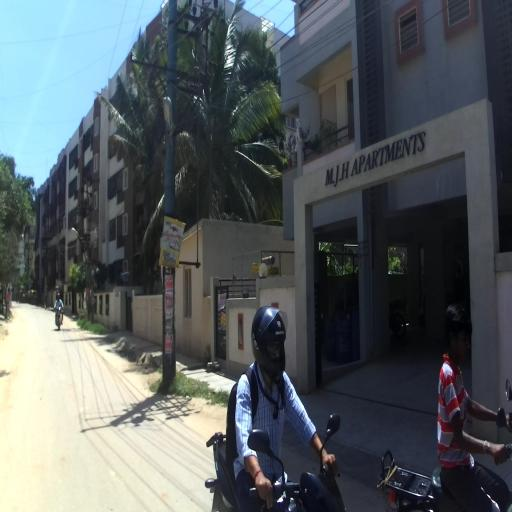street_light_0: (71, 228, 88, 253)
